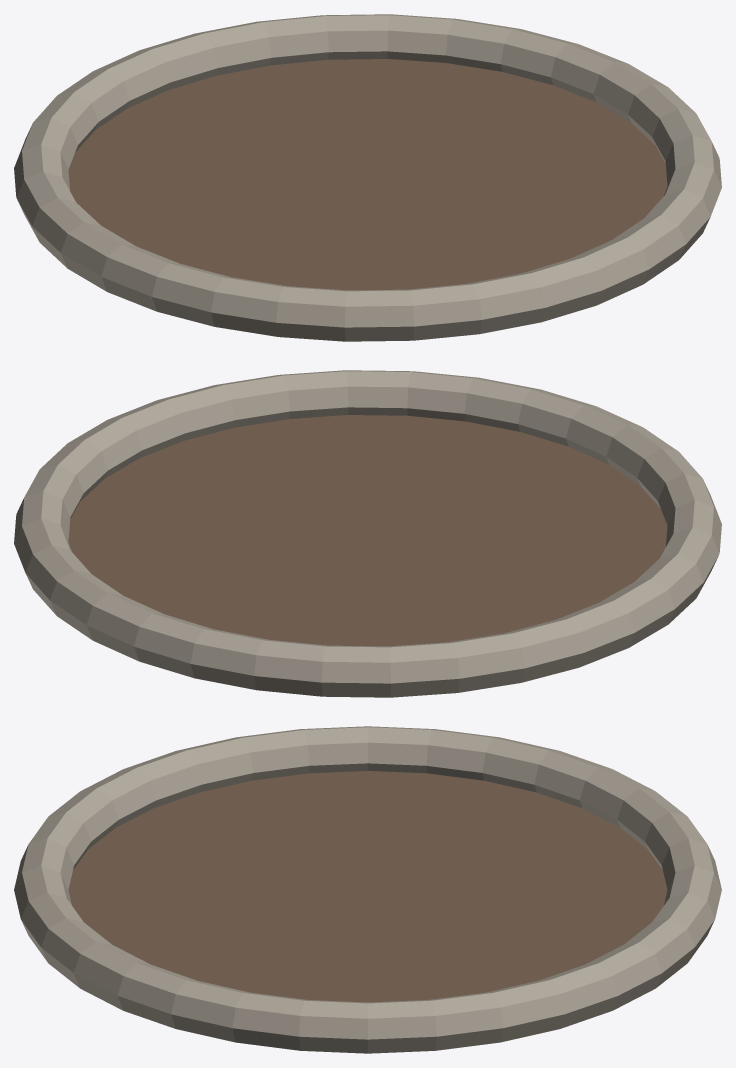
The model's file is MudPoolBasin.fbx.
3 renders of one model, top to bottom at view 1: azimuth 30°, elevation 25°; view 2: azimuth 150°, elevation 25°; view 3: azimuth 270°, elevation 25°, orthographic.
Visible parts, largest first — view 1: MudPoolBasin; view 2: MudPoolBasin; view 3: MudPoolBasin.
Part boxes in pixels (box(x1,y1,x2,y2)): MudPoolBasin: box(14, 14, 721, 341); MudPoolBasin: box(14, 370, 721, 697); MudPoolBasin: box(14, 726, 721, 1053).
Bounding box in the file's own units: 910 × 70 × 910.
